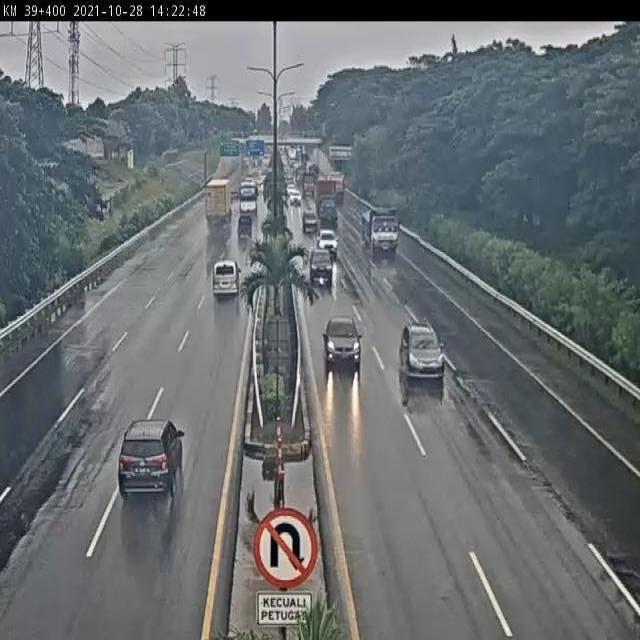ARABA: (117, 418, 187, 498), (323, 316, 361, 375), (212, 259, 243, 297)
TIR: (358, 206, 400, 258)
